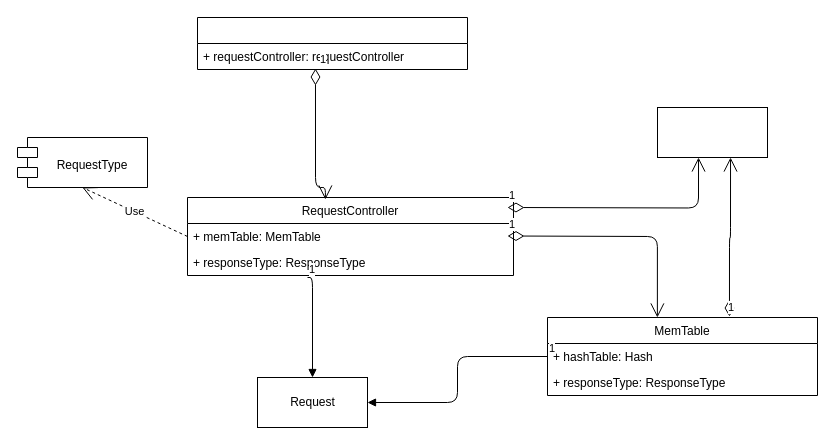
Image size: 835x445. Some labels were removed from this diagram. Here are the shapes that lost their labels. From the top down, the box of each, then its label:
(196, 16, 468, 70): Server
(656, 106, 768, 158): ResponseType
